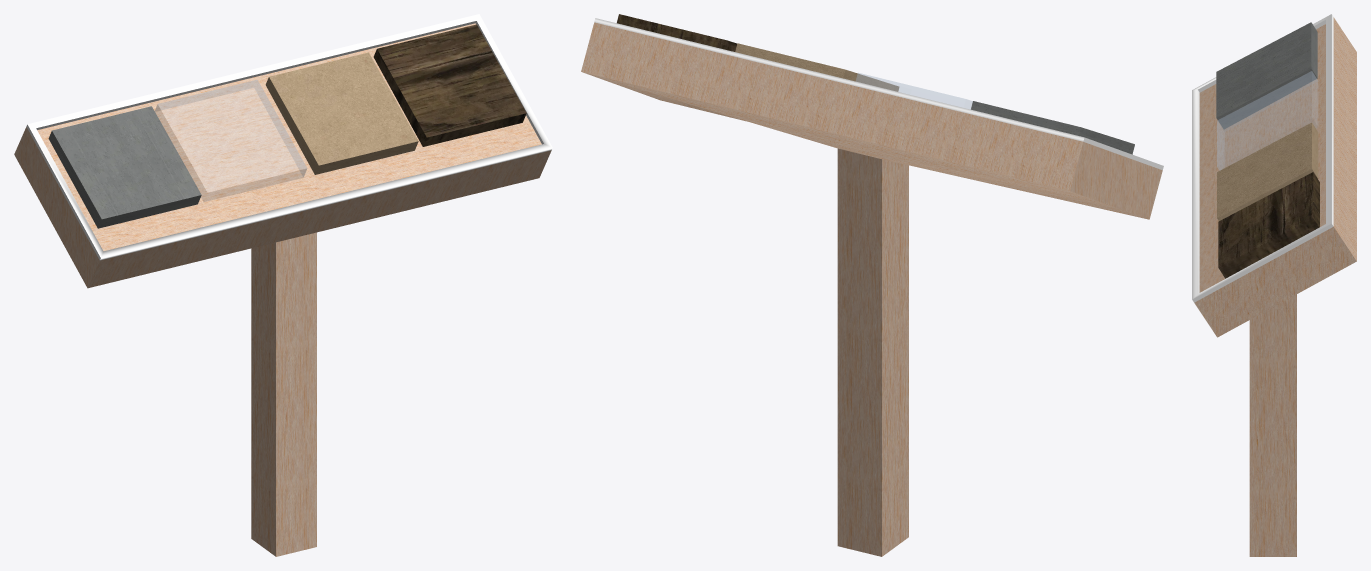
File: MaterialSelector-transformed.glb
3 renders of one model, left to right at view 1: azimuth 30°, elevation 25°; view 2: azimuth 150°, elevation 25°; view 3: azimuth 270°, elevation 25°, orthographic. The views are drawn at different scales.
Visible parts, largest first — view 1: MaterialSelector, Cube.003, Cube.002, Cube, Cube.001, MaterialSelectorFrame; view 2: MaterialSelector, MaterialSelectorFrame, Cube, Cube.002, Cube.003, Cube.001; view 3: MaterialSelector, Cube, Cube.003, Cube.001, Cube.002, MaterialSelectorFrame.
Boxes of the visible parts, x1,y1,x2,y2 form: MaterialSelector: (14, 23, 551, 556); Cube.003: (373, 24, 526, 146); Cube.002: (265, 52, 418, 174); Cube: (48, 106, 201, 228); Cube.001: (155, 80, 306, 201); MaterialSelectorFrame: (26, 14, 552, 260); MaterialSelector: (581, 22, 1162, 556); MaterialSelectorFrame: (594, 18, 1163, 170); Cube: (971, 101, 1134, 154); Cube.002: (735, 43, 899, 91); Cube.003: (617, 14, 736, 51); Cube.001: (856, 73, 972, 109); MaterialSelector: (1194, 17, 1356, 556); Cube: (1216, 22, 1317, 129); Cube.003: (1218, 172, 1319, 278); Cube.001: (1217, 71, 1317, 170); Cube.002: (1217, 122, 1318, 220); MaterialSelectorFrame: (1192, 14, 1333, 302).
Size of the model in its own units: 1.47 by 1.4 by 0.4891.
Materials: 6 (4 with a texture image).
